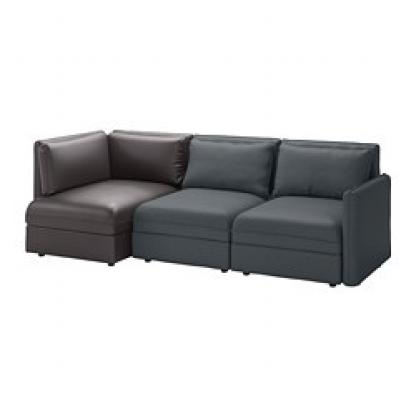Sofa: (20, 108, 396, 311)
